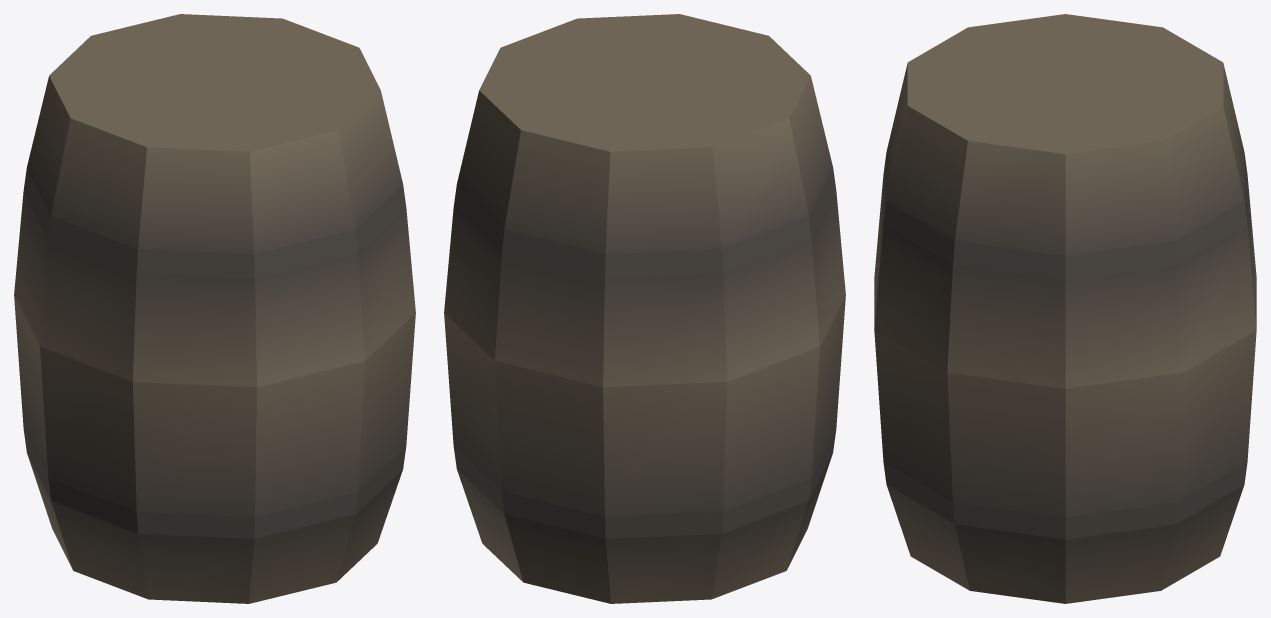
The model's file is prop_barrel.glb.
The picture shows the model from 3 angles, left to right: view 1: azimuth 30°, elevation 25°; view 2: azimuth 150°, elevation 25°; view 3: azimuth 270°, elevation 25°; orthographic projection.
Parts seen in each view (by area): view 1: prop_barrel; view 2: prop_barrel; view 3: prop_barrel.
Boxes of the visible parts, x1,y1,x2,y2 form: prop_barrel: [14, 14, 415, 603]; prop_barrel: [444, 14, 845, 603]; prop_barrel: [874, 14, 1256, 603].
Size of the model in its own units: 0.63 by 0.78 by 0.5992.
